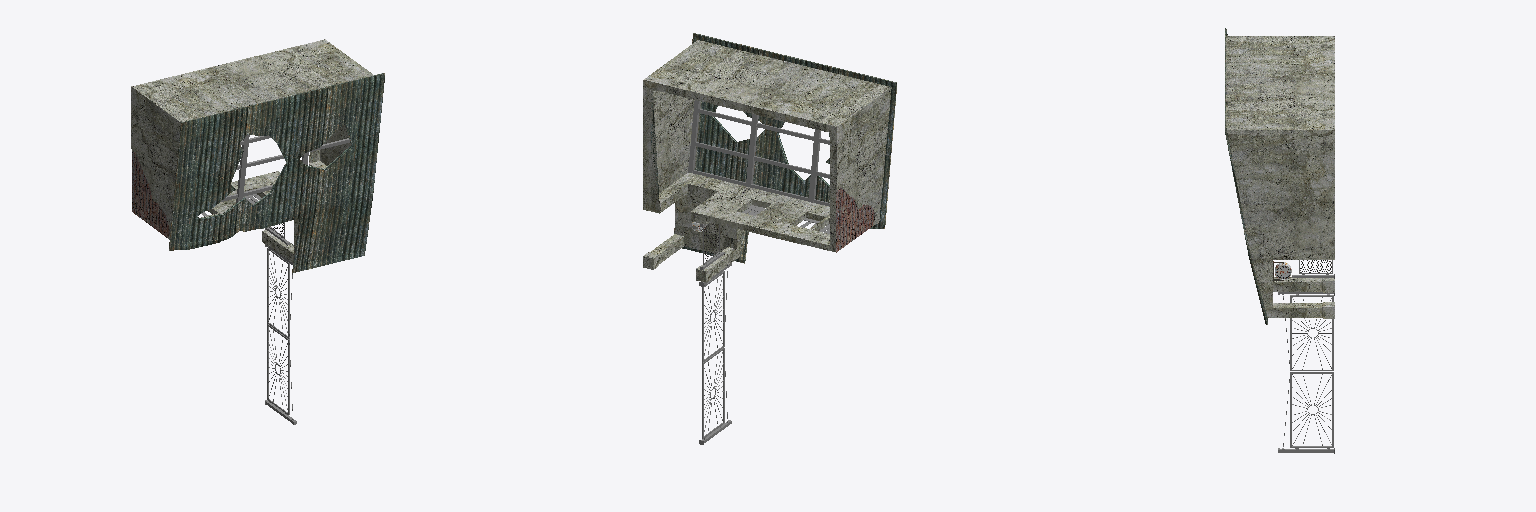
The picture shows the model from 3 angles: view 1: azimuth 30°, elevation 25°; view 2: azimuth 150°, elevation 25°; view 3: azimuth 270°, elevation 25°; orthographic projection.
Visible parts, largest first — view 1: Box011; view 2: Box011; view 3: Box011.
Boxes of the visible parts, box(x1,y1,x2,y2) form: Box011: box(131, 39, 384, 424); Box011: box(643, 33, 896, 444); Box011: box(1225, 28, 1334, 453).
Size of the model in its own units: 13.77 by 23.02 by 6.48.
Materials: 9 (7 with a texture image).